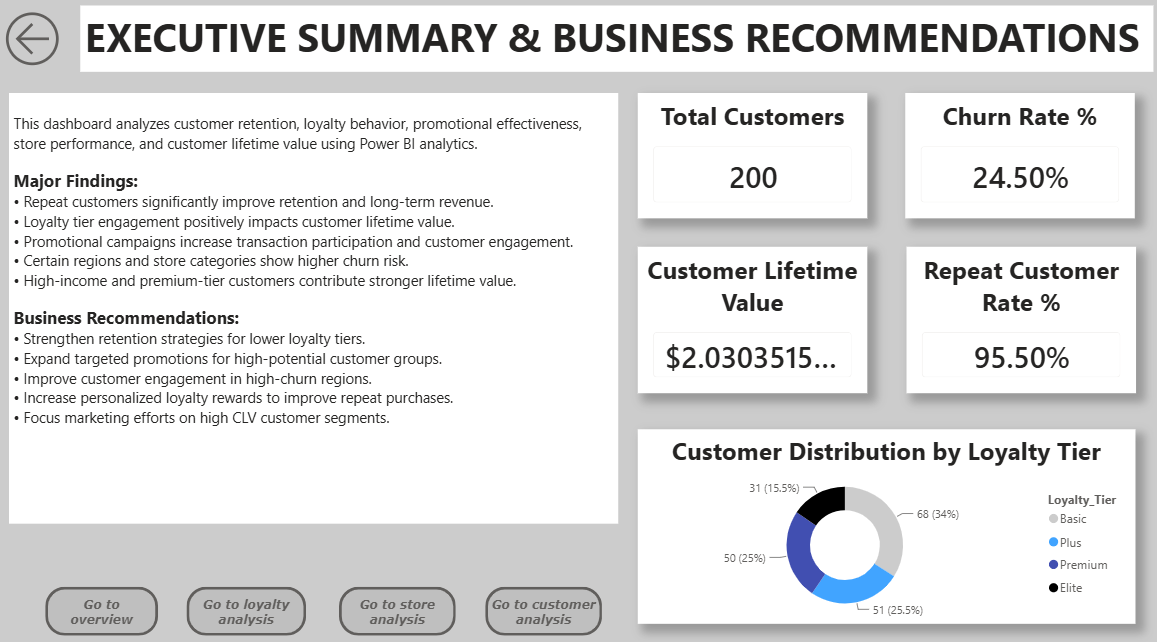

This screenshot's page, from the dashboard's own definition file:
{"tool":"powerbi","page":{"name":"Executive Summary","canvas":[1280,720],"ordinal":4},"visuals":[{"type":"textbox","box":[10.4,110.4,668.5,473],"z":0},{"type":"cardVisual","title":"Total Customers","fields":{"Data":["Measures_Table.Total Customers"]},"box":[701.3,110.4,252.2,137.3],"z":1000},{"type":"cardVisual","title":"Churn Rate %","fields":{"Data":["Measures_Table.Churn Rate %"]},"box":[995.3,110.4,252.2,137.3],"z":2000},{"type":"cardVisual","title":"Customer Lifetime Value","fields":{"Data":["Measures_Table.Customer Lifetime Value"]},"box":[701.3,279,252.2,161.2],"z":3000},{"type":"cardVisual","title":"Repeat Customer Rate %","fields":{"Data":["Measures_Table.Repeat Customer Rate %"]},"box":[996.8,279,252.2,161.2],"z":4000},{"type":"textbox","box":[89.5,13.4,1178.8,73.1],"z":5000},{"type":"actionButton","box":[0,13.4,100,73.1],"z":6000},{"type":"actionButton","box":[373,652.1,128.3,53.7],"z":7000},{"type":"actionButton","box":[534.2,652.1,128.3,53.7],"z":8000},{"type":"actionButton","box":[205.9,652.1,131.3,53.7],"z":9000},{"type":"actionButton","box":[50.7,652.1,123.9,53.7],"z":10000},{"type":"donutChart","title":"Customer Distribution by Loyalty Tier","fields":{"Category":["Loyalty_Program.Loyalty_Tier"],"Y":["Measures_Table.Total Customers"]},"box":[701.3,479,546.1,213.4],"z":11000}]}

Visuals, with their boxes in screenshot pixels (x1, y1, x2, y2), scaled from the page's 1280x720 canvas onto the 1157x642 screenshot:
textbox: l=9, t=98, r=614, b=520
"Total Customers" cardVisual: l=634, t=98, r=862, b=221
"Churn Rate %" cardVisual: l=900, t=98, r=1128, b=221
"Customer Lifetime Value" cardVisual: l=634, t=249, r=862, b=393
"Repeat Customer Rate %" cardVisual: l=901, t=249, r=1129, b=393
textbox: l=81, t=12, r=1146, b=77
actionButton: l=0, t=12, r=90, b=77
actionButton: l=337, t=581, r=453, b=629
actionButton: l=483, t=581, r=599, b=629
actionButton: l=186, t=581, r=305, b=629
actionButton: l=46, t=581, r=158, b=629
"Customer Distribution by Loyalty Tier" donutChart: l=634, t=427, r=1128, b=617
